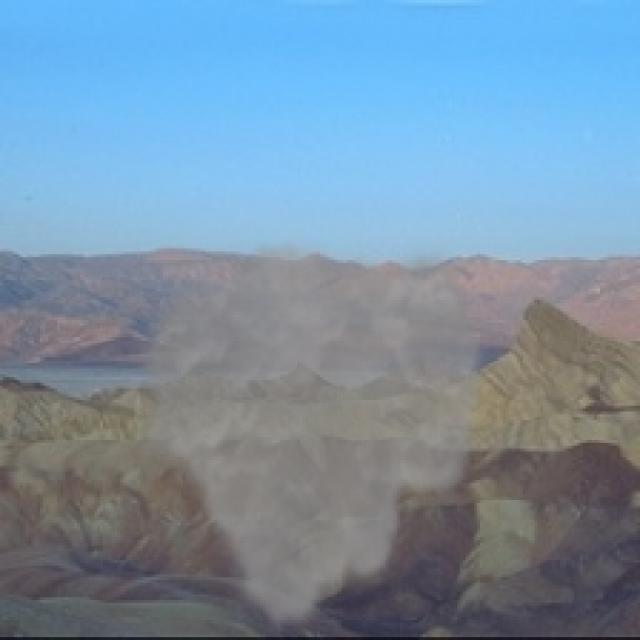smoke: (129, 237, 494, 637)
